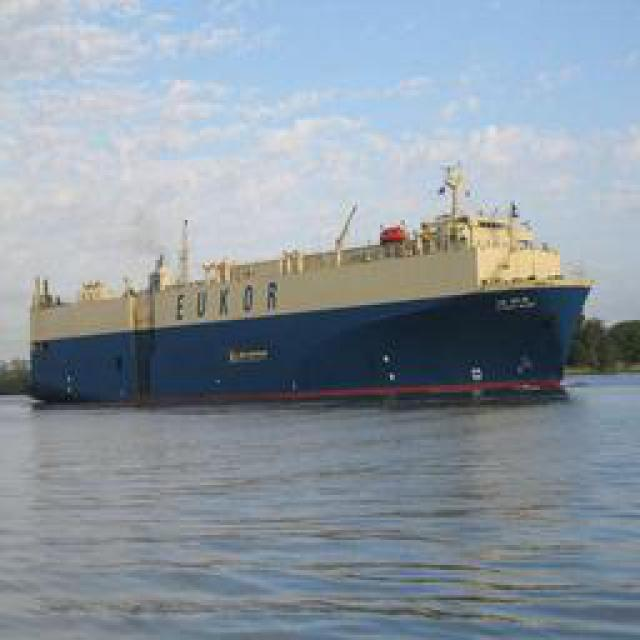Ship: (28, 180, 603, 410)
